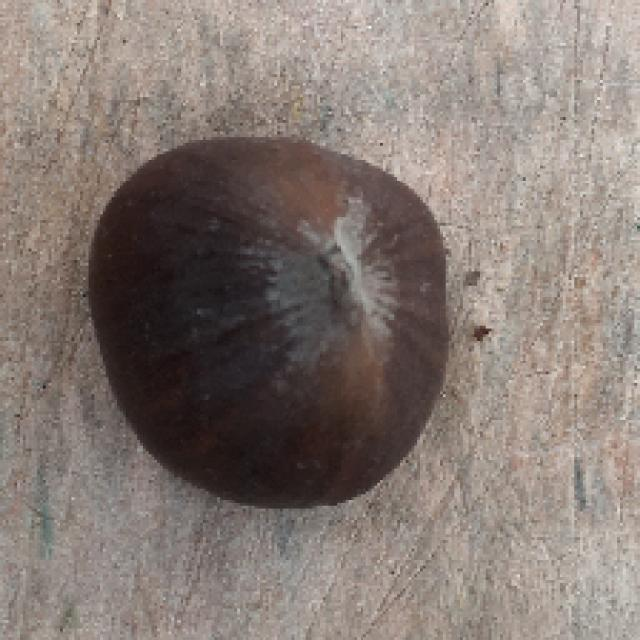DamagedHazelnut: (84, 136, 448, 506)
